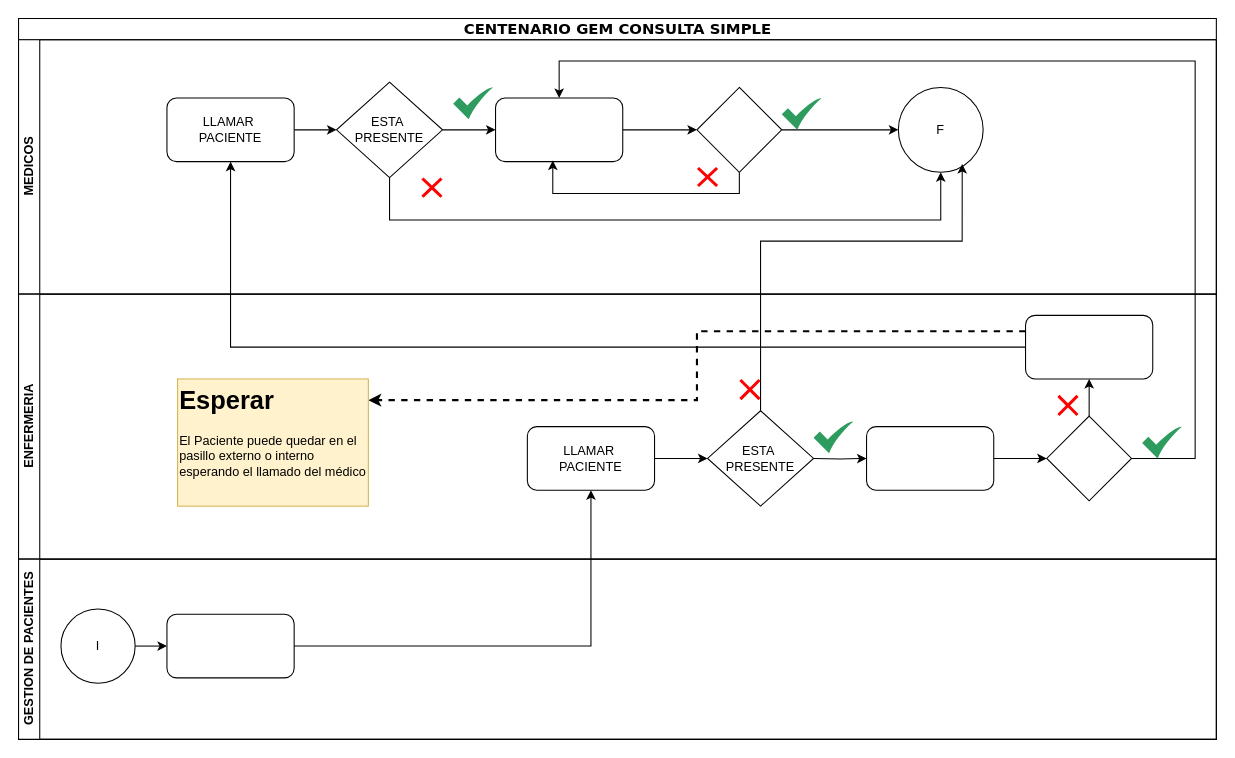
This 1235x758 diagram has some shape labels left out. Each missing label, with the centre of its shape:
ATENDER PACIENTE: pixel 558 129
ESPERAR ATENCION MEDICA: pixel 1088 346
FINALIZA ATENCION: pixel 739 129
REALIZAR TRIAJE: pixel 929 458
RECEPCIONAR PACIENTES: pixel 230 645
Shocroom: pixel 1089 458
